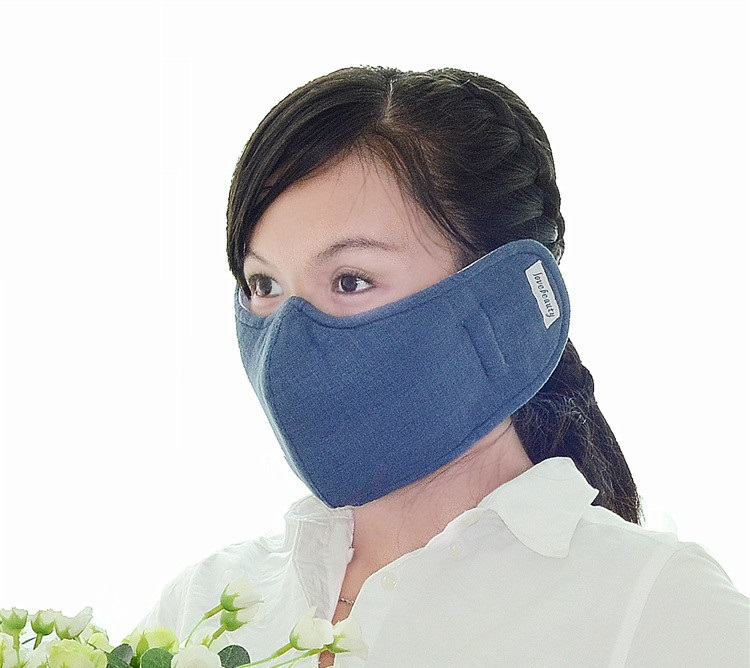face_mask: (235, 153, 476, 471)
